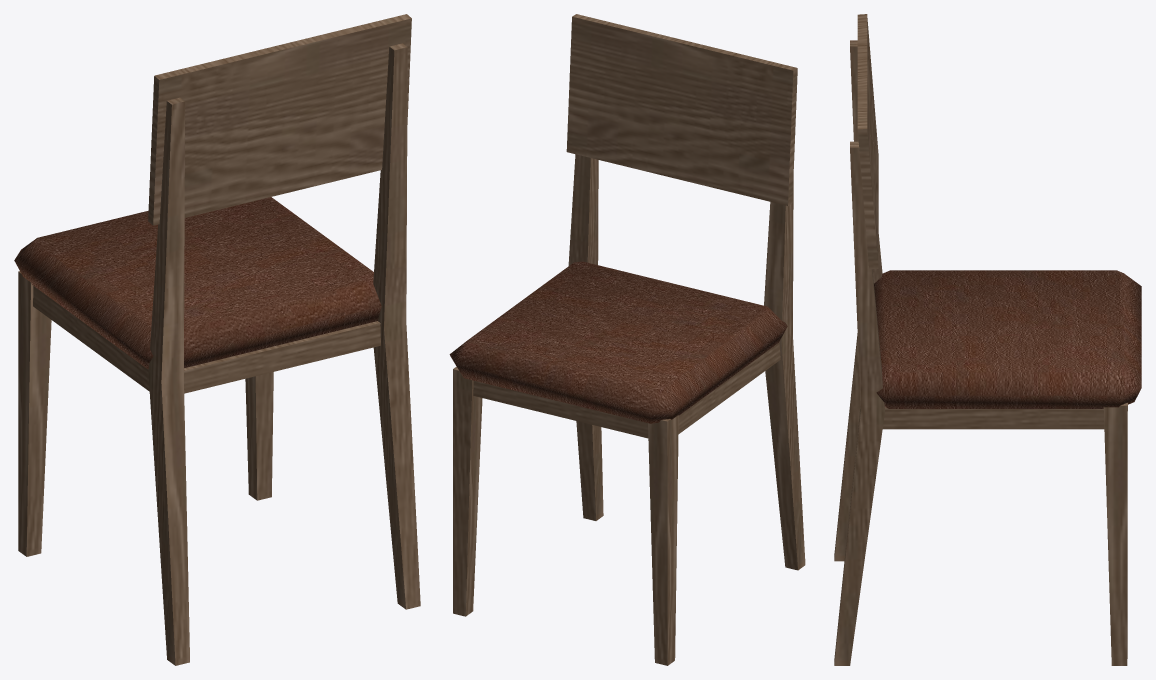
Rendered from Chair_04.glb.
3 renders of one model, left to right at view 1: azimuth 30°, elevation 25°; view 2: azimuth 150°, elevation 25°; view 3: azimuth 270°, elevation 25°, orthographic. The views are drawn at different scales.
Parts seen in each view (by area): view 1: Chair_04; view 2: Chair_04; view 3: Chair_04.
Part boxes in pixels (x1,y1,x2,y2): Chair_04: (14, 14, 420, 665); Chair_04: (449, 14, 805, 665); Chair_04: (834, 14, 1141, 665).
Size of the model in its own units: 0.5087 by 1.1 by 0.566.
Materials: 2 (2 with a texture image).
